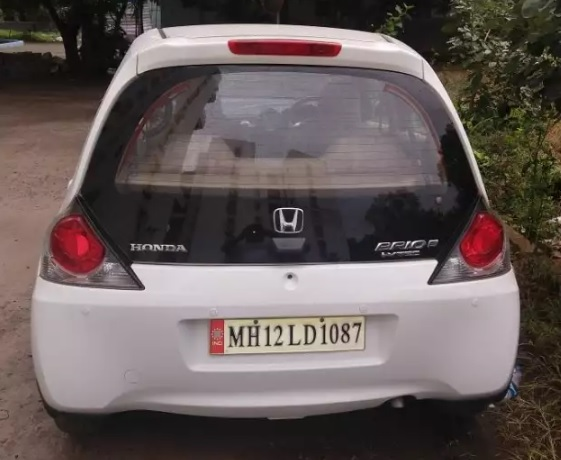licenseplate: (206, 315, 371, 354)
